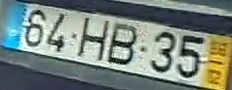3: (149, 29, 177, 74)
4: (44, 12, 65, 53)
5: (175, 33, 204, 80)
6: (22, 8, 47, 49)
B: (106, 21, 137, 66)
H: (76, 15, 110, 63)
